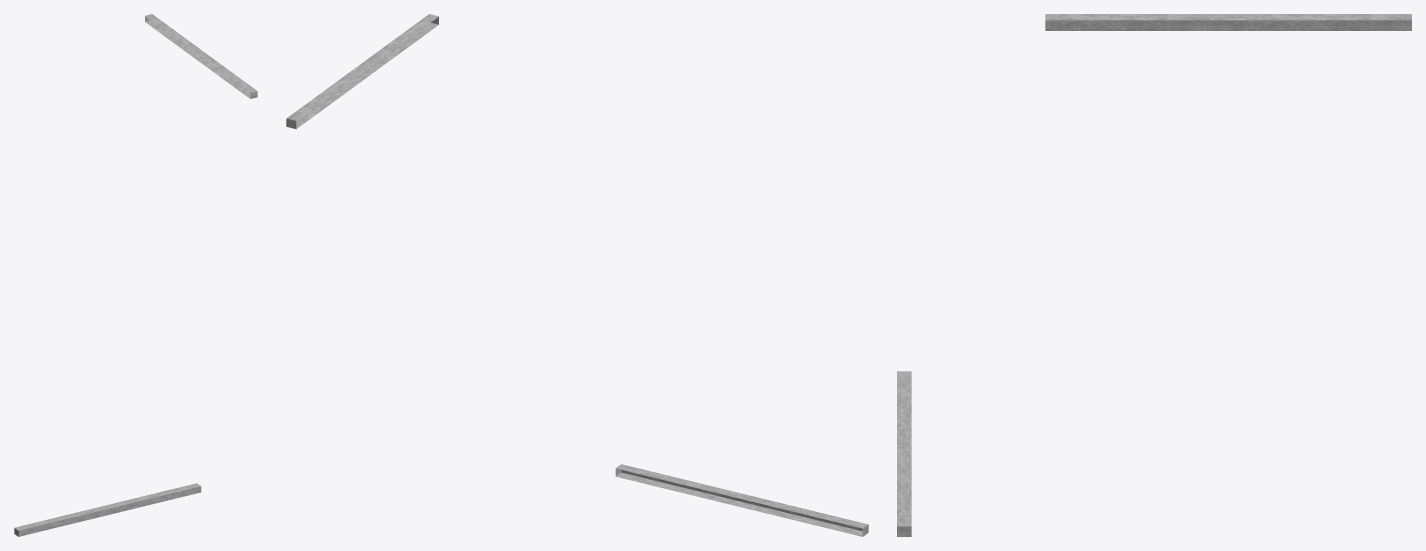
File: buildig.001_concrete_0_lev3.glb
The picture shows the model from 3 angles, left to right: view 1: azimuth 30°, elevation 25°; view 2: azimuth 150°, elevation 25°; view 3: azimuth 270°, elevation 25°; orthographic projection. The views are drawn at different scales.
Visible parts, largest first — view 1: buildig.001_concrete_0_lev3; view 2: buildig.001_concrete_0_lev3; view 3: buildig.001_concrete_0_lev3.
Part boxes in pixels (x1,y1,x2,y2): buildig.001_concrete_0_lev3: (14, 14, 257, 536); buildig.001_concrete_0_lev3: (286, 14, 868, 536); buildig.001_concrete_0_lev3: (897, 14, 1411, 536).
Bounding box in the file's own units: 1.13 × 1.32 × 1.03.
Materials: 1 (1 with a texture image).
